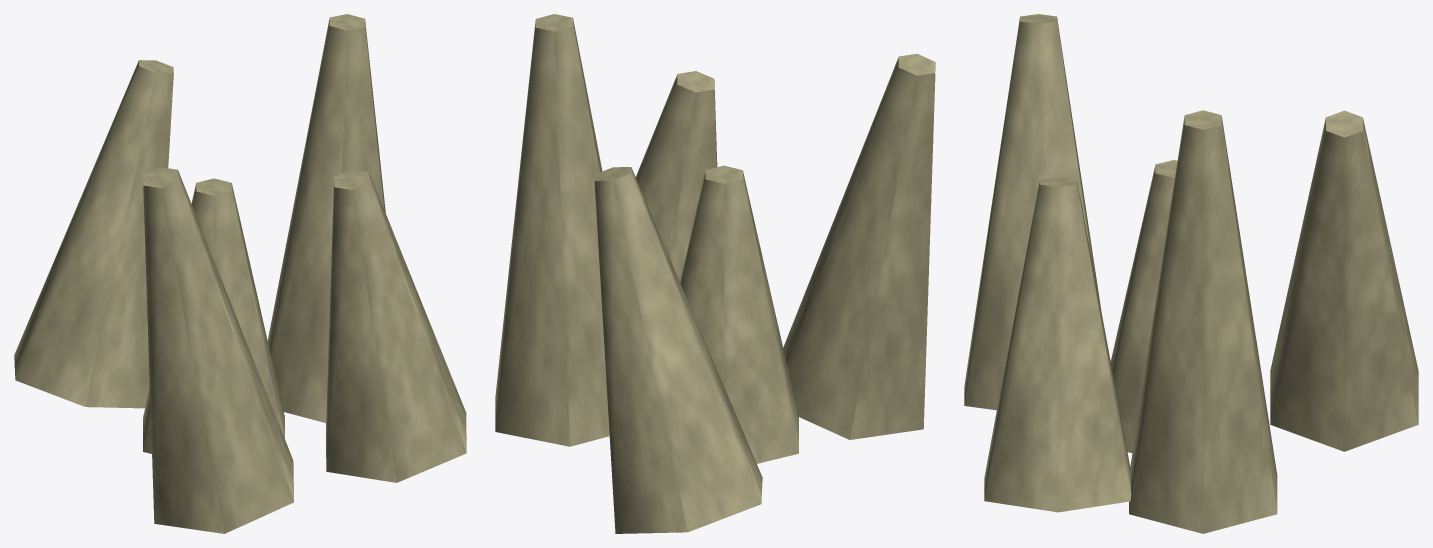
The model's file is item-SilverSand.fbx.
3 renders of one model, left to right at view 1: azimuth 30°, elevation 25°; view 2: azimuth 150°, elevation 25°; view 3: azimuth 270°, elevation 25°, orthographic. The views are drawn at different scales.
Visible parts, largest first — view 1: item-SilverSand__Geometry; view 2: item-SilverSand__Geometry; view 3: item-SilverSand__Geometry.
Boxes of the visible parts, bbox=[...] form: item-SilverSand__Geometry: bbox=[14, 14, 466, 533]; item-SilverSand__Geometry: bbox=[495, 14, 935, 533]; item-SilverSand__Geometry: bbox=[964, 14, 1418, 533].
Bounding box in the file's own units: 0.2866 × 0.3075 × 0.3185.
Materials: 1 (1 with a texture image).
